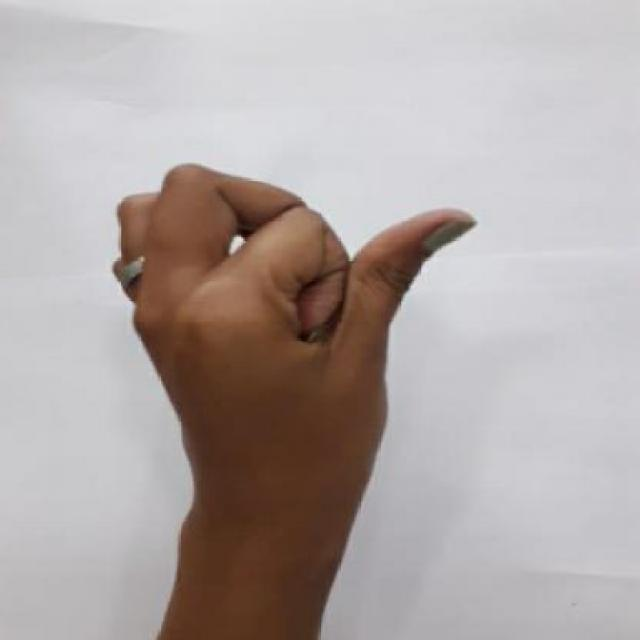without_gloves: (76, 136, 502, 519)
